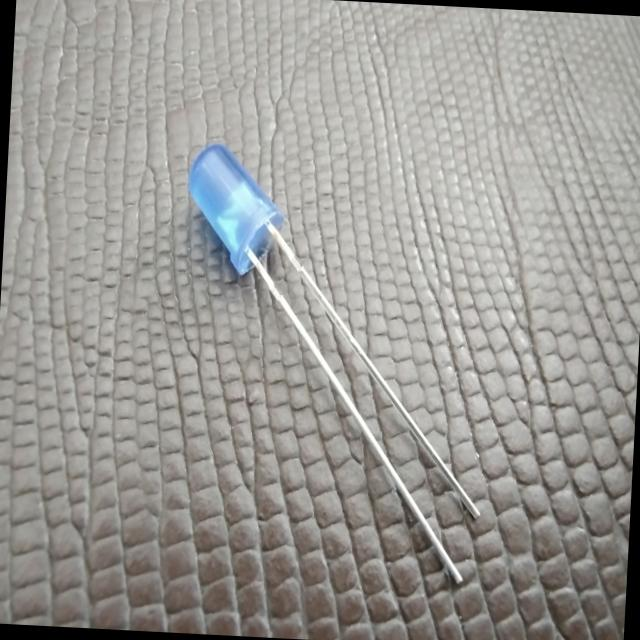blue_led: (182, 140, 288, 280)
